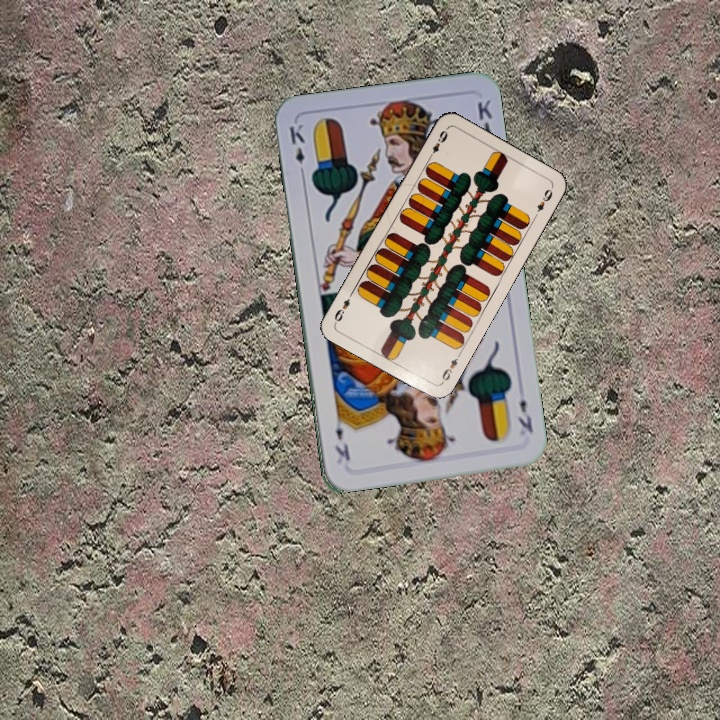E9: (437, 349, 463, 386), (425, 126, 450, 162)
EK: (285, 120, 308, 179), (514, 394, 536, 435)
